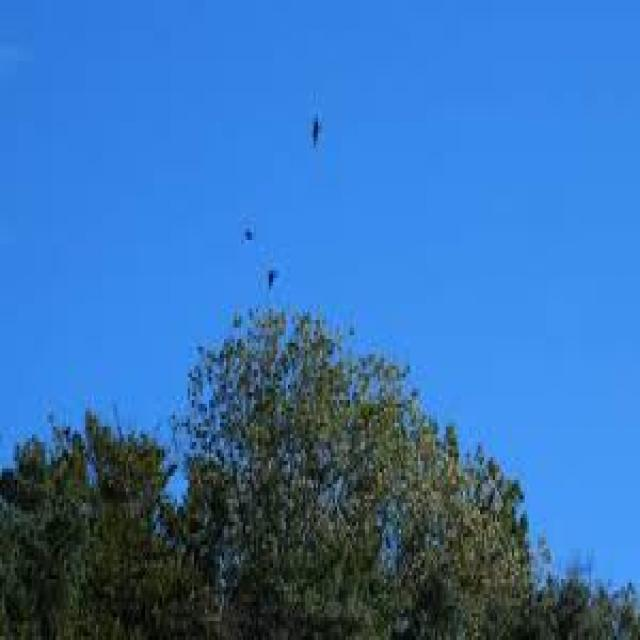bird: (255, 228, 292, 308), (303, 103, 335, 160), (233, 210, 260, 266)
